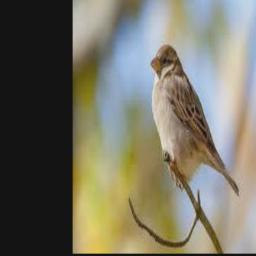Sparrow: (150, 43, 239, 199)
